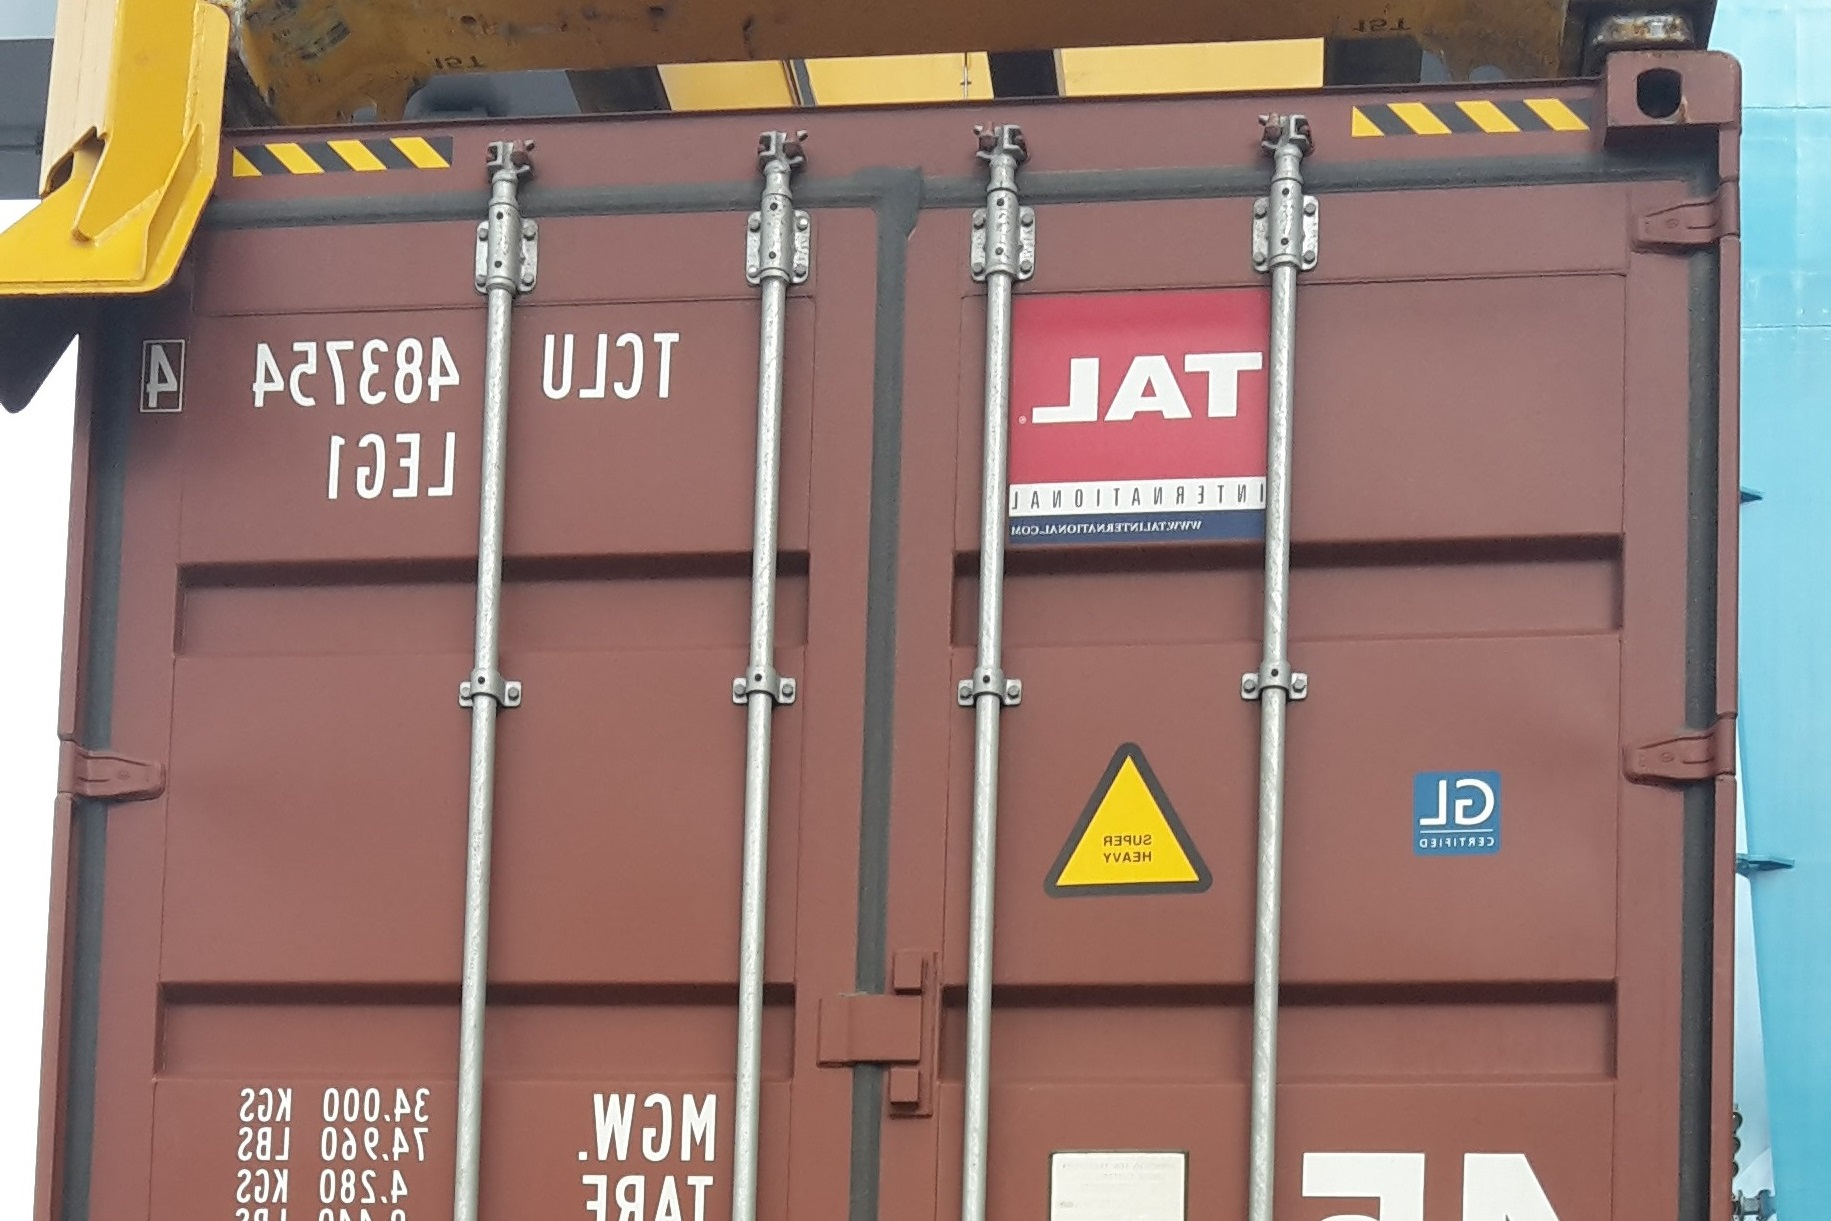container_door: (68, 46, 1732, 1221)
